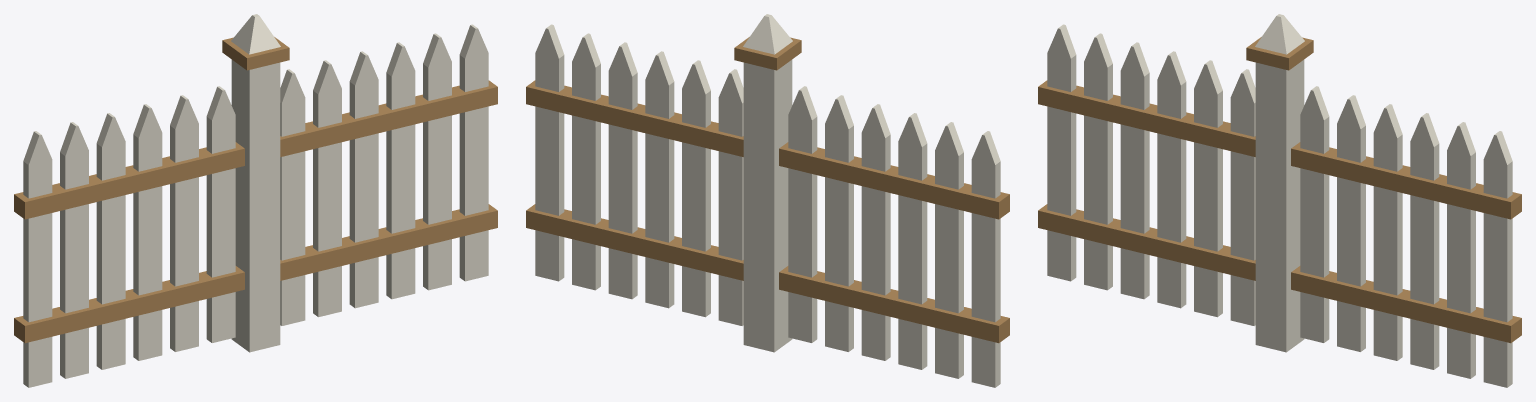
File: picket_straight.glb
3 views of the same model, side by side, from view 1: azimuth 30°, elevation 25°; view 2: azimuth 150°, elevation 25°; view 3: azimuth 330°, elevation 25° (orthographic).
Parts seen in each view (by area): view 1: fence_picket_straight; view 2: fence_picket_straight; view 3: fence_picket_straight.
Boxes of the visible parts, box(x1,y1,x2,y2) form: fence_picket_straight: box(14, 14, 497, 387); fence_picket_straight: box(526, 14, 1009, 387); fence_picket_straight: box(1038, 14, 1521, 387).
Size of the model in its own units: 2 by 1.32 by 0.18.
